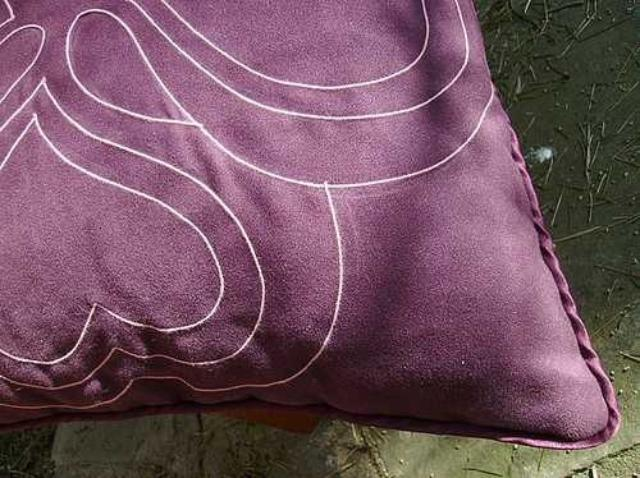pillow: (0, 0, 620, 450)
